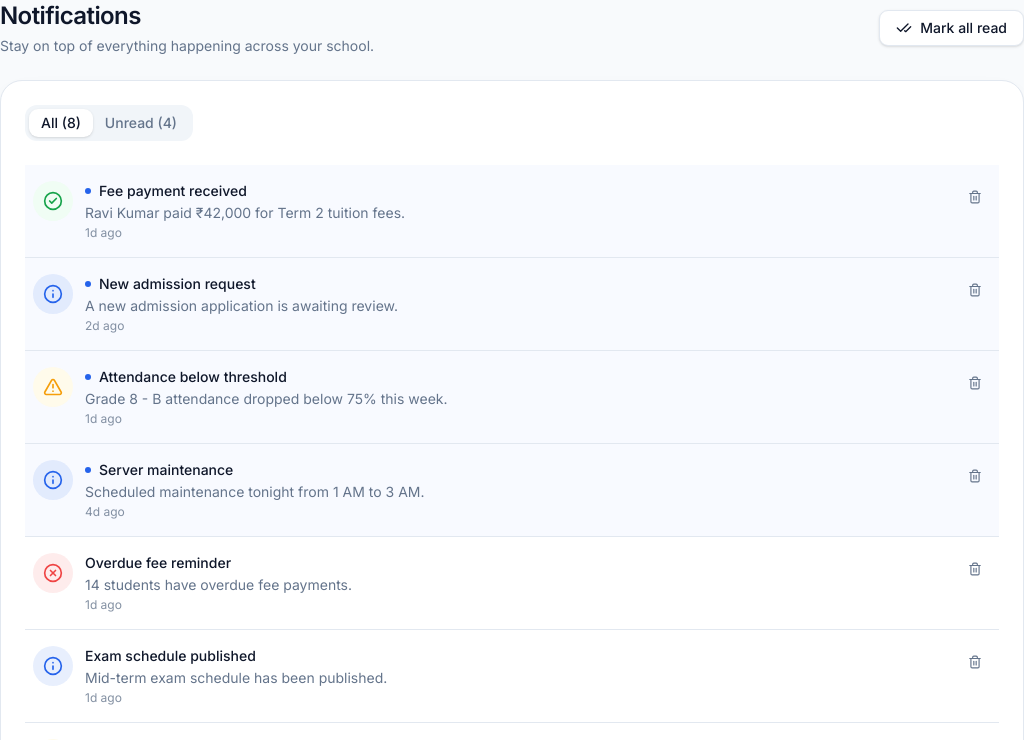
Scenario: NotificationsPage › shows an empty state on the unread tab once everything is read
What coordinates should you click on to do the following:
click the button "Mark all read"
I would click on:
 (952, 28)
Its box is [879, 10, 1023, 46].
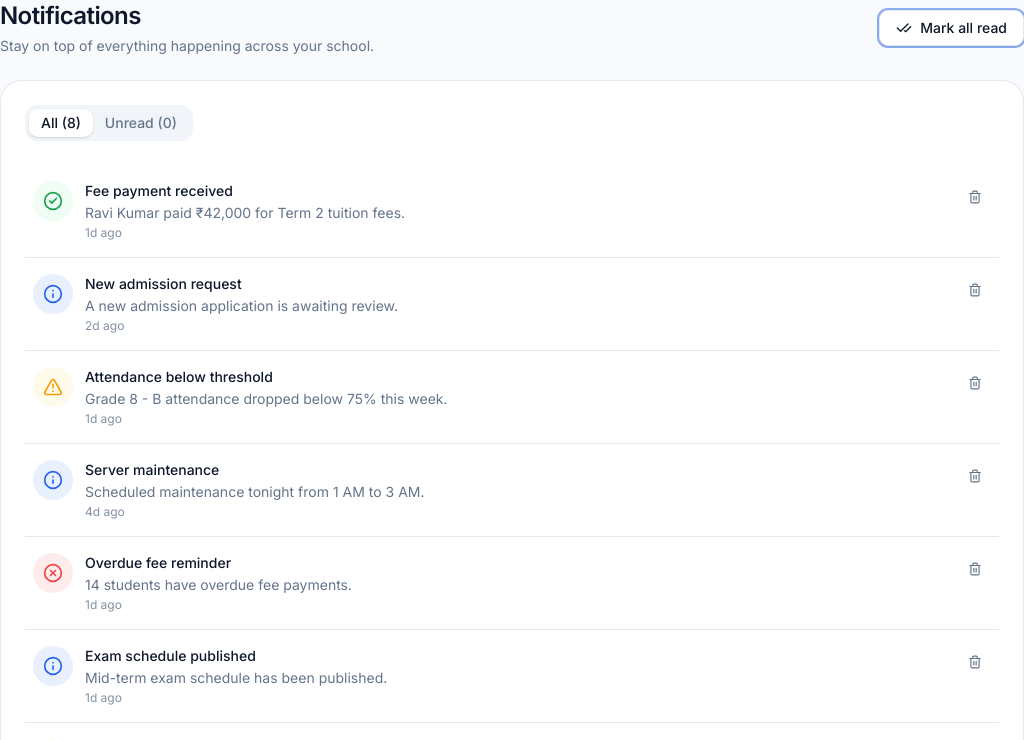
What coordinates should you click on to do the following:
click the tab "Unread (0)"
I would click on:
 (141, 123)
Its box is [93, 109, 189, 137].
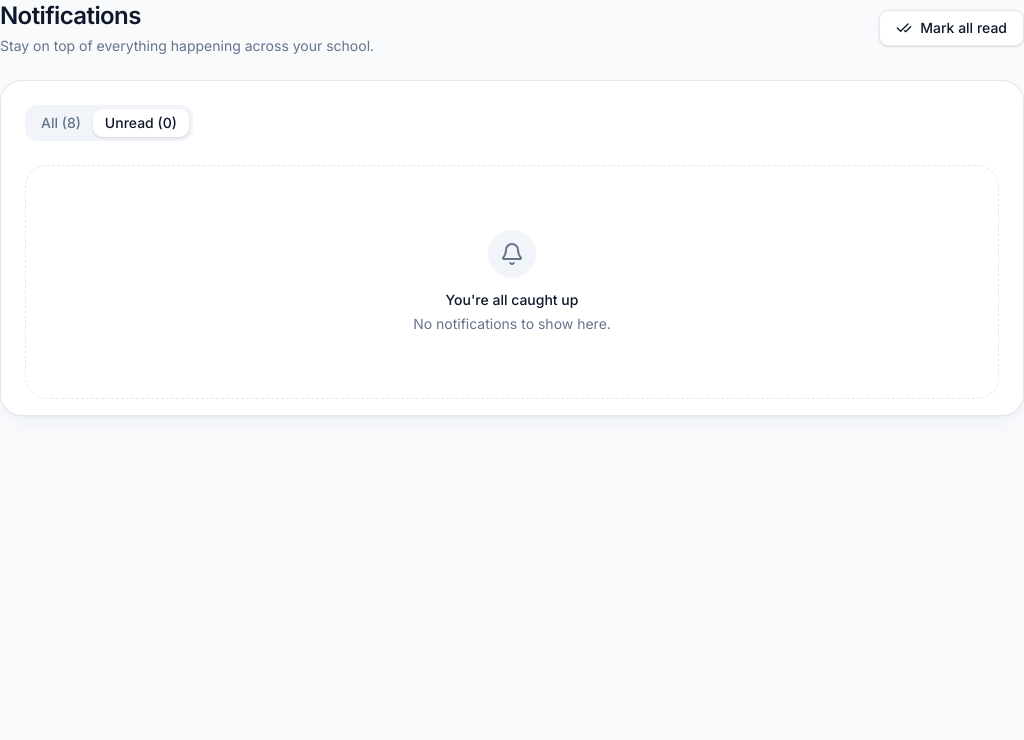
Result: the text "You're all caught up" is shown at [446, 291, 578, 308]
